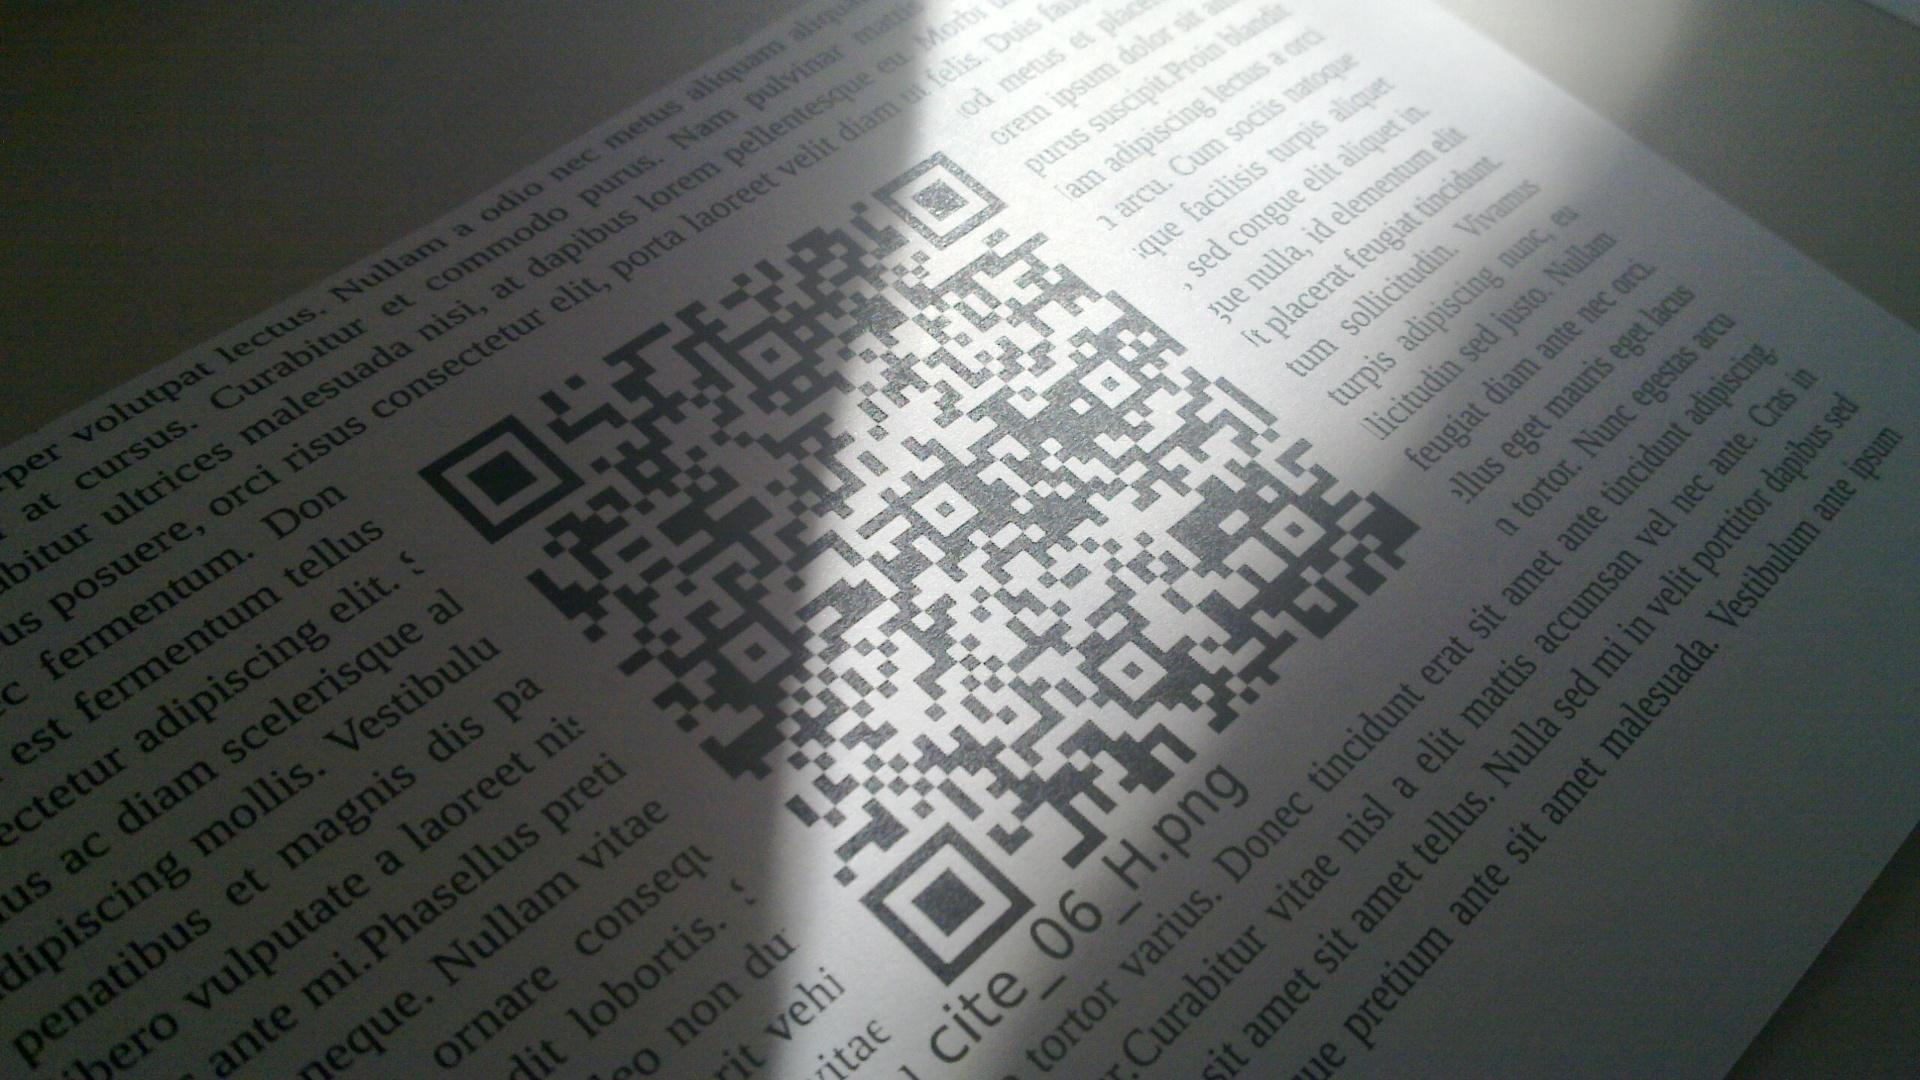Finder pattern: (855, 822, 1036, 980), (417, 427, 580, 538), (872, 156, 1007, 247)
